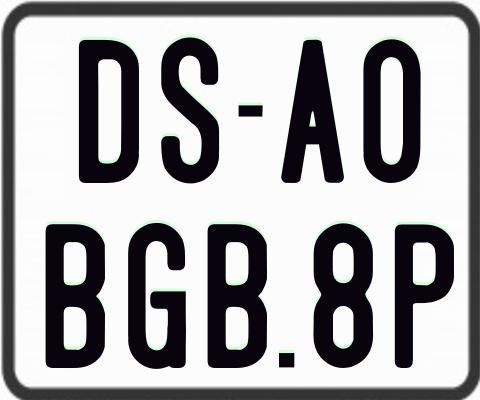0: (361, 37, 423, 184)
8: (312, 222, 375, 373)
A: (280, 37, 344, 180)
B: (43, 222, 104, 371), (206, 221, 265, 371)
D: (76, 38, 141, 184)
G: (127, 223, 187, 371)
P: (395, 224, 456, 371)
S: (158, 35, 217, 183)
